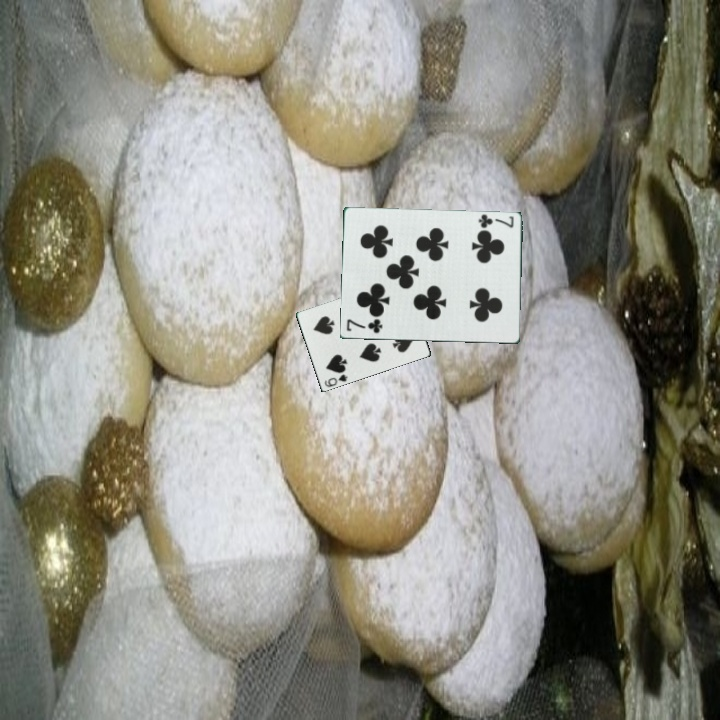6s: (321, 371, 351, 390)
7c: (344, 317, 386, 336), (475, 211, 516, 230)
